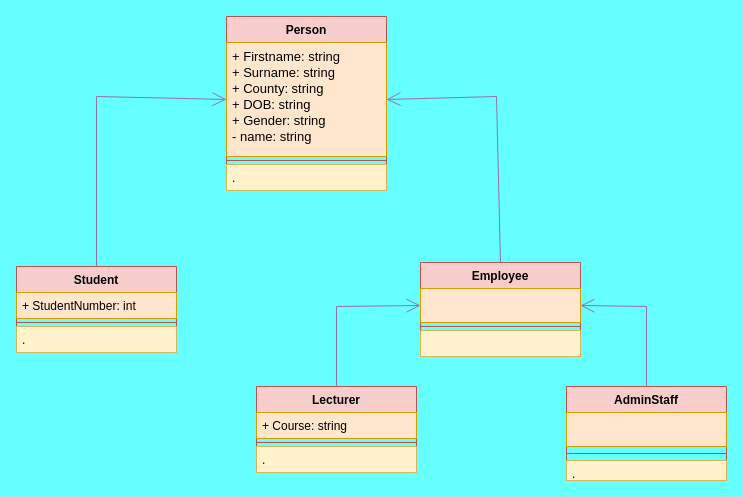
The diagram is 743 pixels wide and 497 high, and some of its shapes have lost their labels. The shapes that lost their labels are listed below. From the top down, each one's centre as x and y in pixels, then its label:
point 500,305: + Pay: decimal + StaffNo: int
point 500,343: + CalculatePay(): decimal
point 646,429: + NoSummer: string
